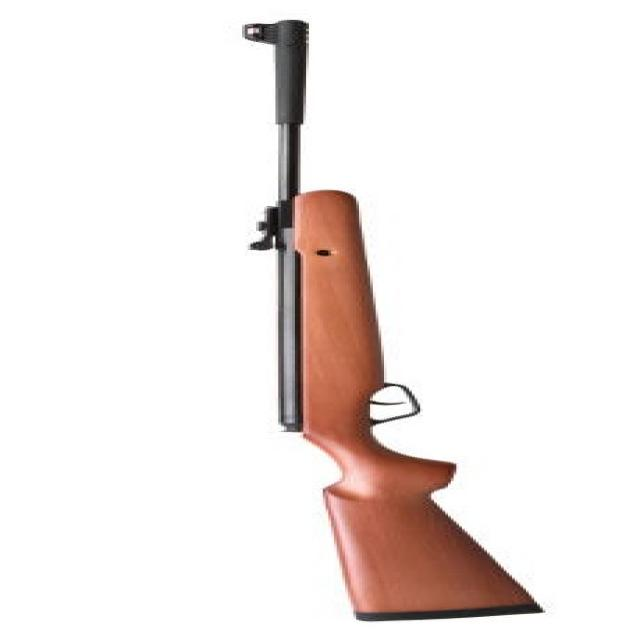rifle: (196, 17, 570, 630)
